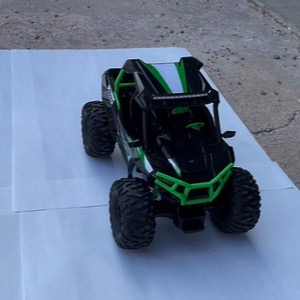polaris: (79, 56, 264, 250)
